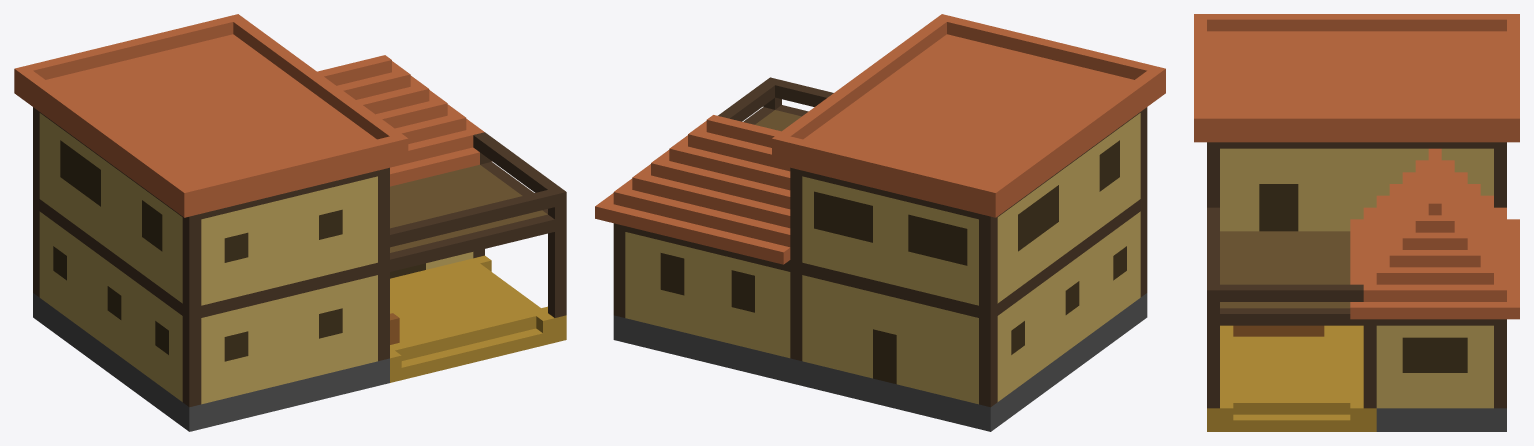
The model's file is house-big.obj.
3 renders of one model, left to right at view 1: azimuth 30°, elevation 25°; view 2: azimuth 150°, elevation 25°; view 3: azimuth 270°, elevation 25°, orthographic. The views are drawn at different scales.
Parts seen in each view (by area): view 1: house-big; view 2: house-big; view 3: house-big.
Boxes of the visible parts, x1,y1,x2,y2 form: house-big: (14,14,566,431); house-big: (595,14,1165,431); house-big: (1194,14,1519,431).
Size of the model in its own units: 34 by 20 by 25.
1 material, 1 textured.
